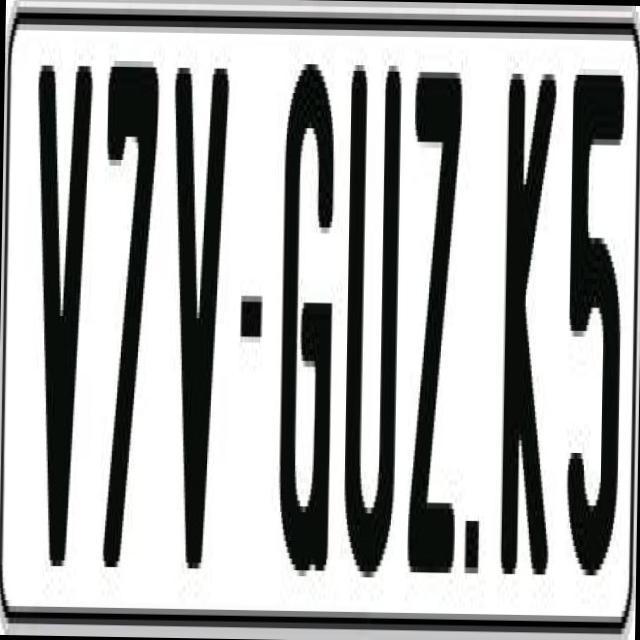5: (562, 74, 624, 576)
7: (95, 54, 157, 579)
G: (273, 52, 340, 571)
K: (499, 61, 561, 592)
U: (338, 65, 406, 578)
V: (28, 53, 100, 572), (164, 61, 230, 563)
Z: (403, 59, 462, 578)
